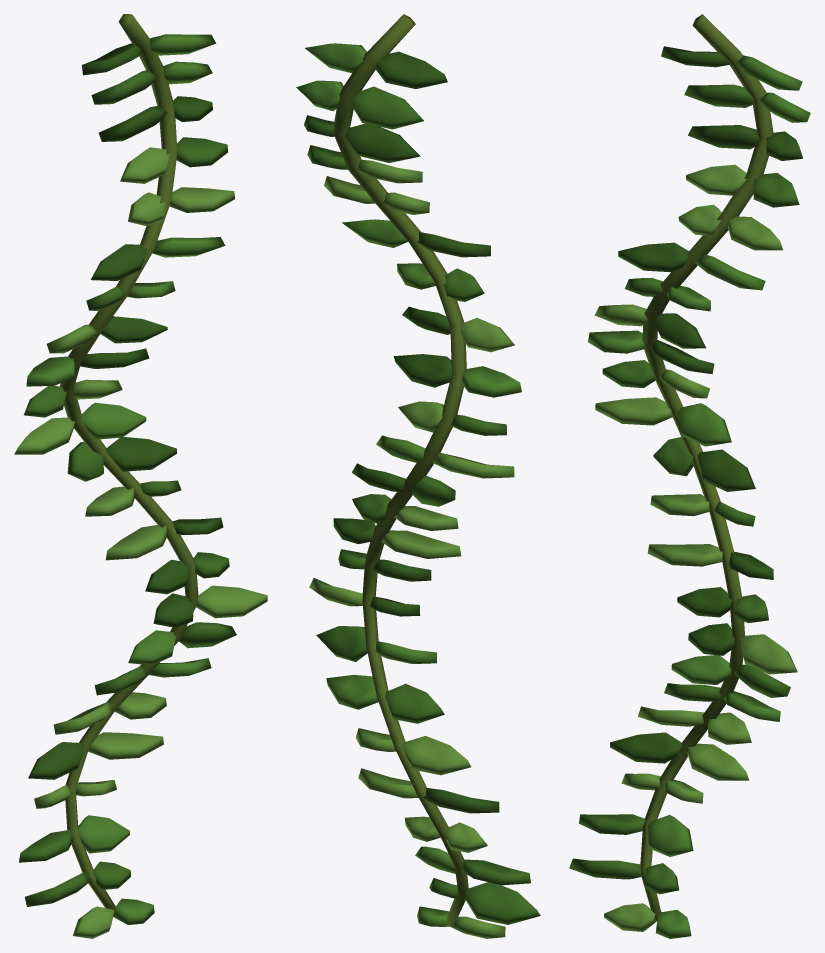
Rendered from forest-ivy.glb.
3 views of the same model, side by side, from view 1: azimuth 30°, elevation 25°; view 2: azimuth 150°, elevation 25°; view 3: azimuth 330°, elevation 25° (orthographic). The views are drawn at different scales.
Visible parts, largest first — view 1: forest-ivy/0; view 2: forest-ivy/0; view 3: forest-ivy/0.
Boxes of the visible parts, x1,y1,x2,y2 form: forest-ivy/0: (14,14,267,938); forest-ivy/0: (296,14,540,938); forest-ivy/0: (569,14,810,938).
Size of the model in its own units: 1.11 by 4.1 by 0.3887.
